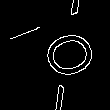O_NE: (34, 21, 103, 81)
